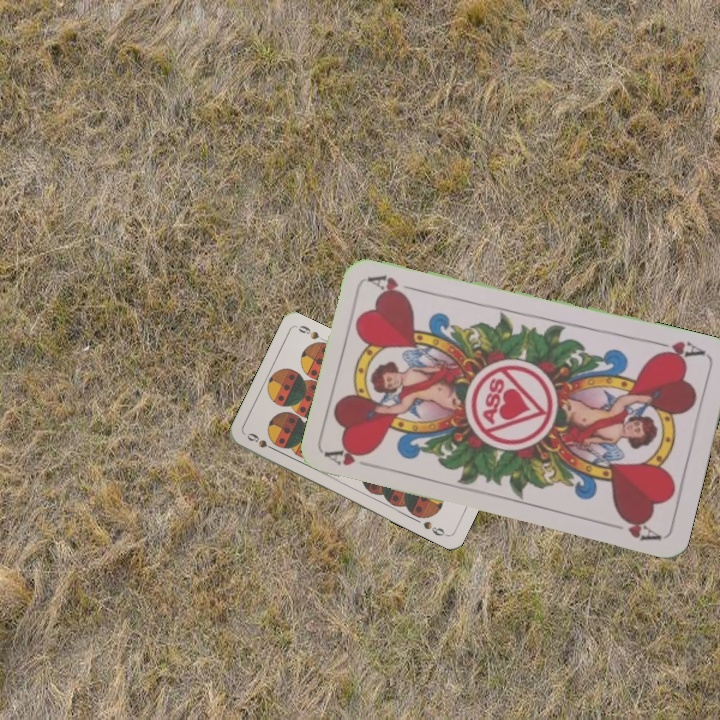HA: (323, 443, 382, 472), (650, 337, 708, 364)
S9: (243, 429, 280, 454)
